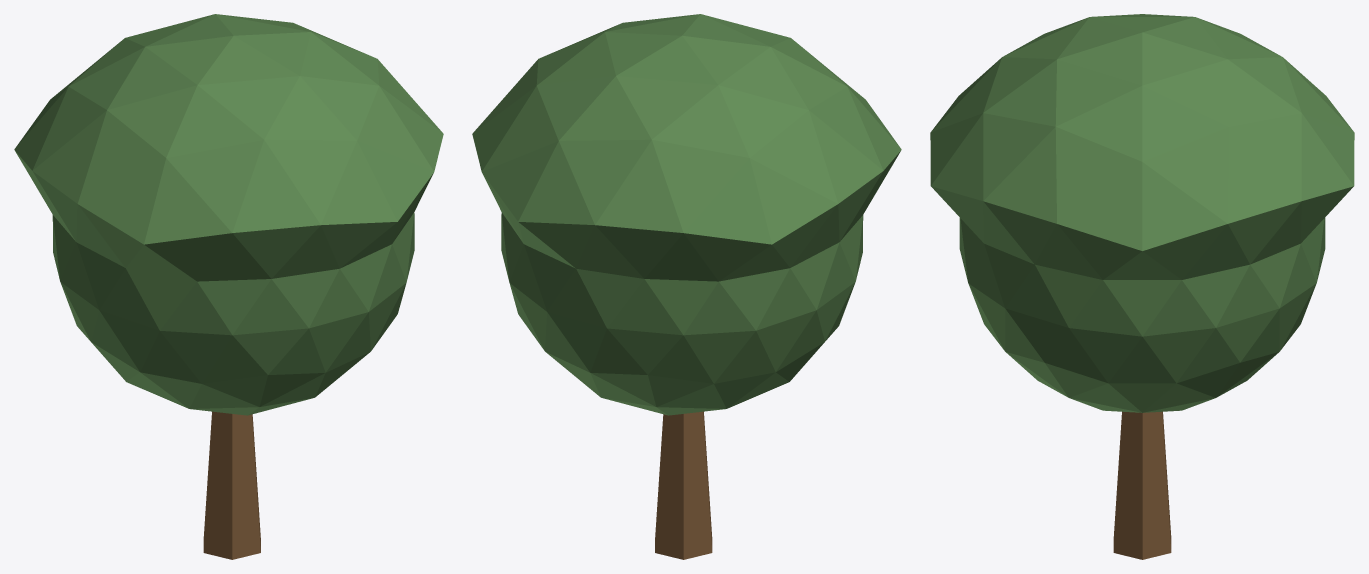
File: tree3d-098.glb
3 renders of one model, left to right at view 1: azimuth 30°, elevation 25°; view 2: azimuth 150°, elevation 25°; view 3: azimuth 270°, elevation 25°, orthographic.
Visible parts, largest first — view 1: tree3d-098; view 2: tree3d-098; view 3: tree3d-098.
Boxes of the visible parts, left/top/right/bottom form: tree3d-098: left=14, top=14, right=443, bottom=559; tree3d-098: left=472, top=14, right=901, bottom=559; tree3d-098: left=930, top=14, right=1354, bottom=559.
Bounding box in the file's own units: 0.7592 × 1 × 0.7475.
